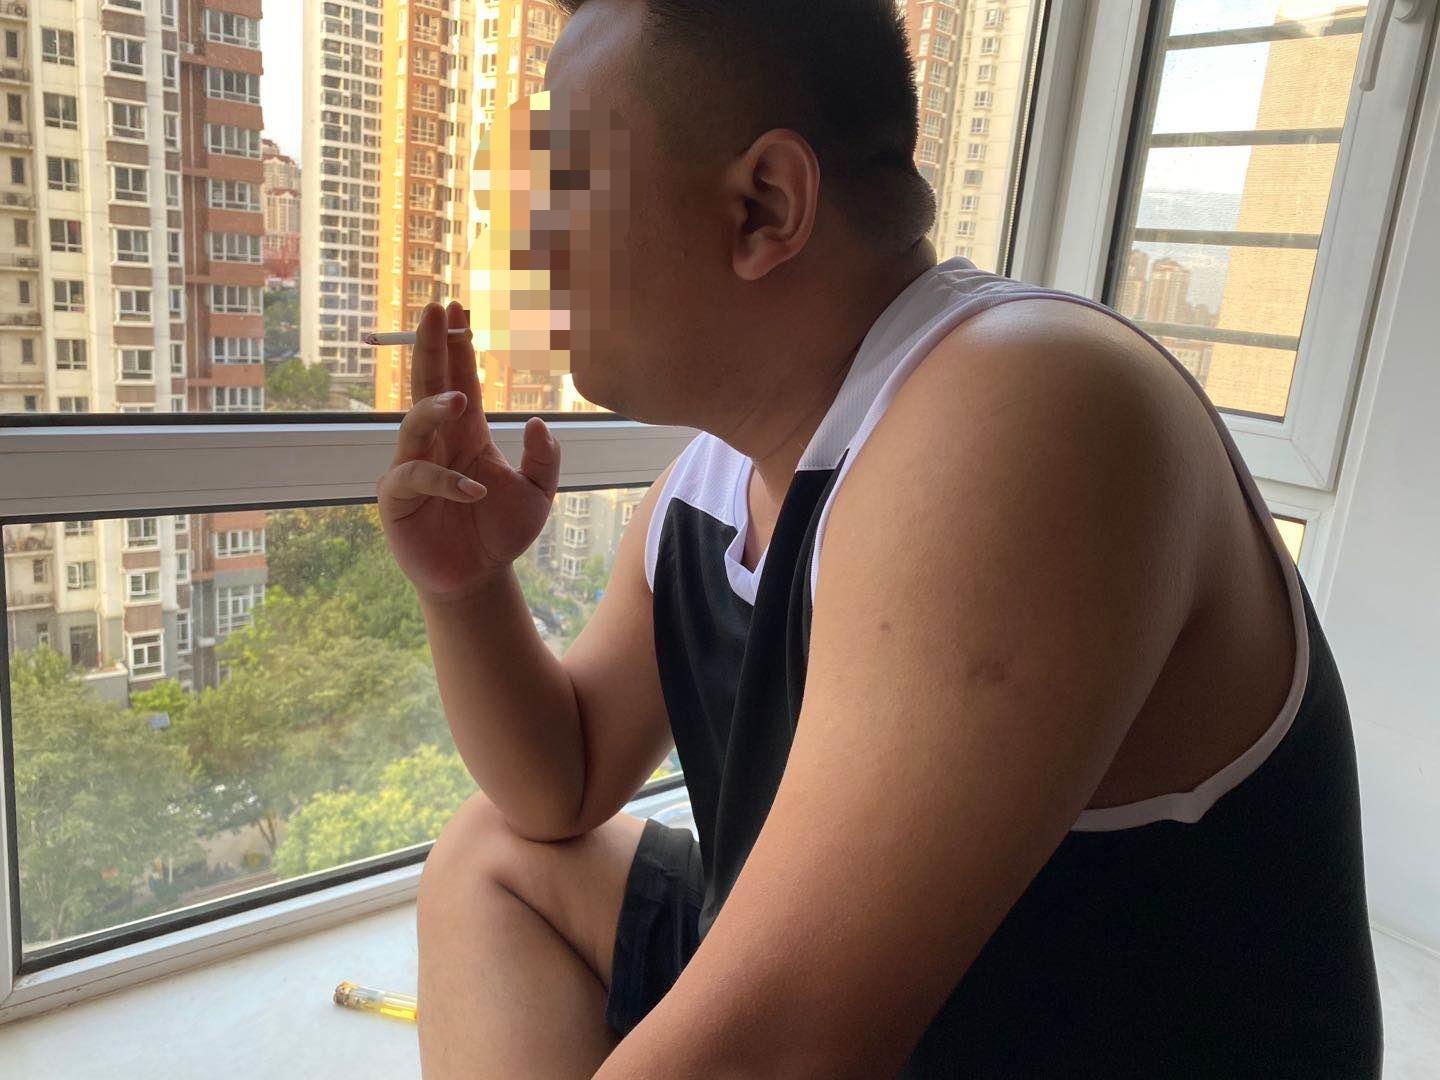smoke: (359, 320, 478, 349)
